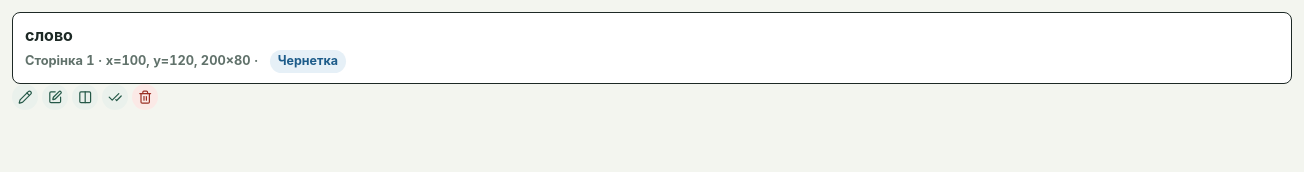
LexemeList › cancels text editing without saving
Step 1. Click the button named "Редагувати текст" → click(25, 97), box [12,84,38,110]
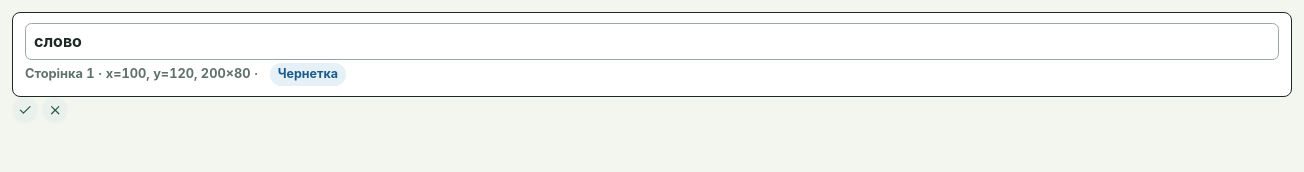
Step 2. Replace the text in the field named "Текст лексеми" with "скасовано" → (652, 41), box [25,23,1279,60]
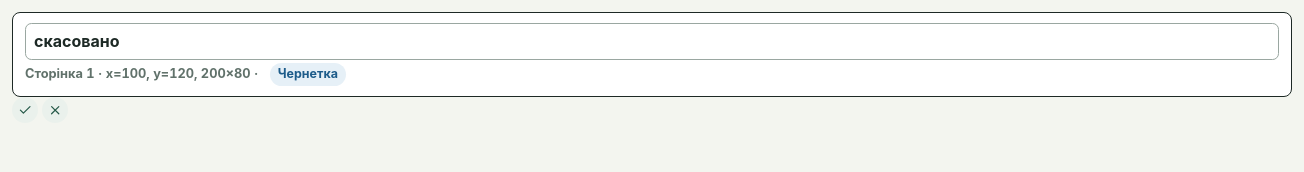
Step 3. Click the button named "Скасувати" → click(55, 110), box [42,97,68,123]
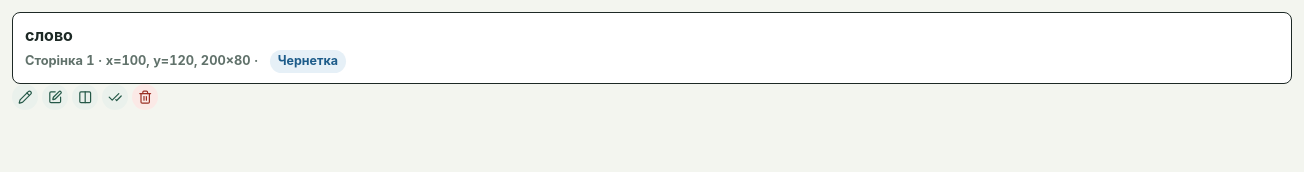
Expected: the text "слово" is shown, [25,25,73,45]
